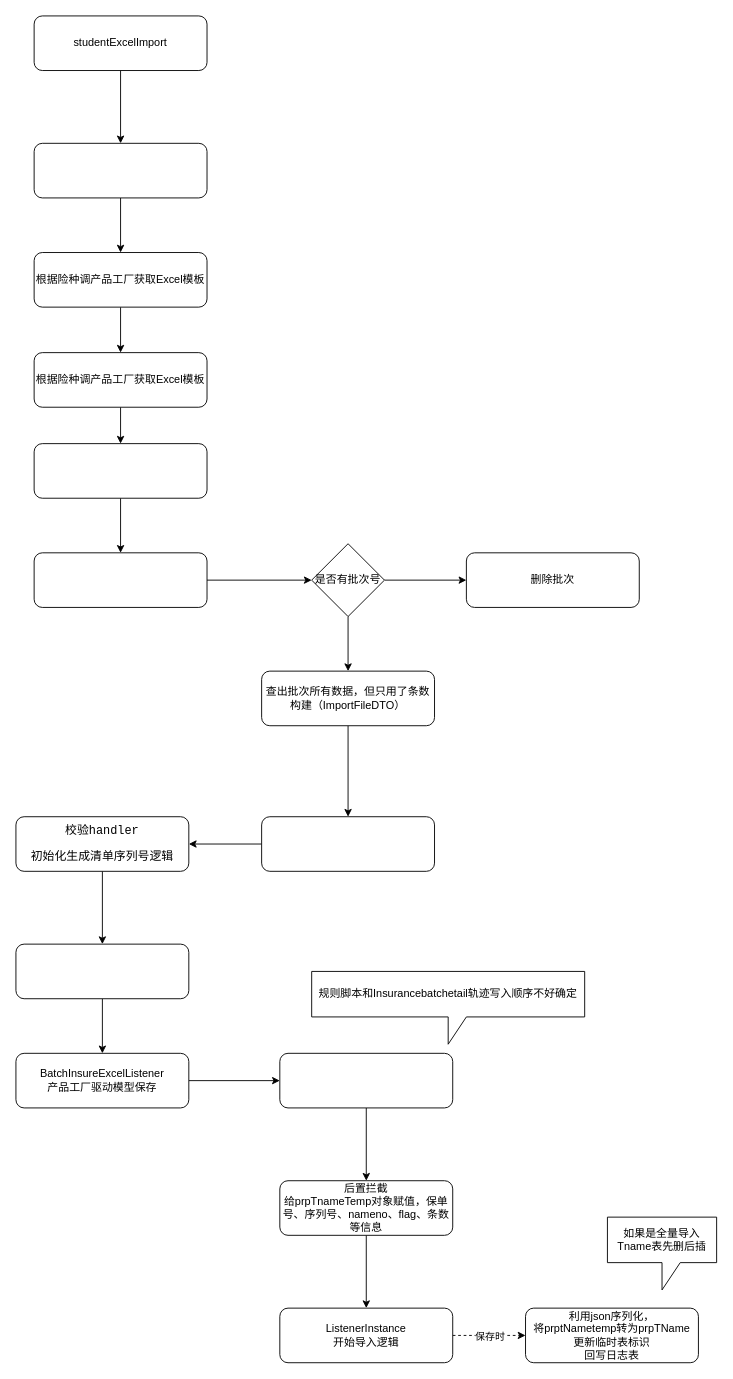
Some shapes in this 733 by 1379 pixel diagram are drawn without their labels. The shapes that lost their labels are listed below. From the top down, each one's centre as x and y in pixels, then its label:
At (120,170): "上传OSS生成文件PATH".
At (120,470): "获取保单模型".
At (120,579): "日志handler 统一处理日志表（Insurancebatch）".
At (348,843): "写入Insurancebatch".
At (102,971): "调用EsayExcel解析文件".
At (366,1080): "前置拦截 校验、写入Insurancebatchetail".
